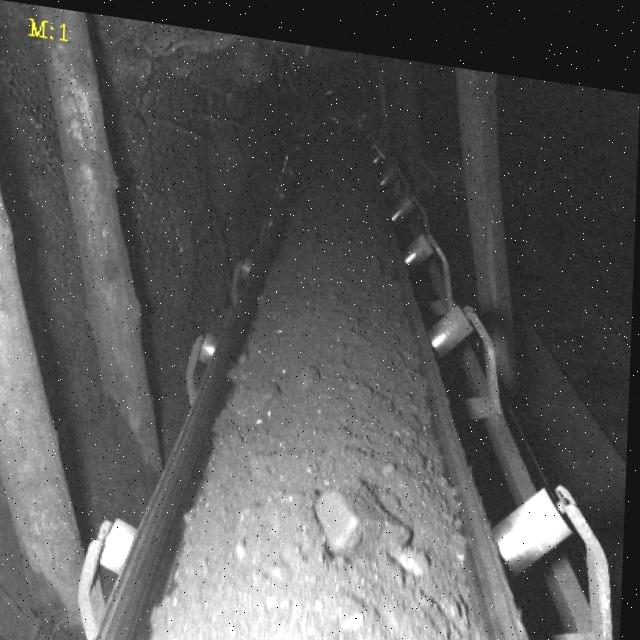large_sized_coal: (319, 473, 432, 562)
